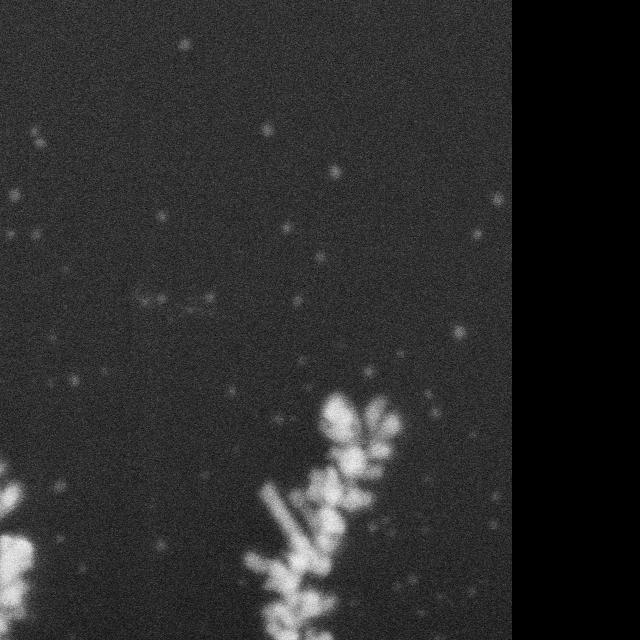Dendrite: (245, 393, 511, 640)
